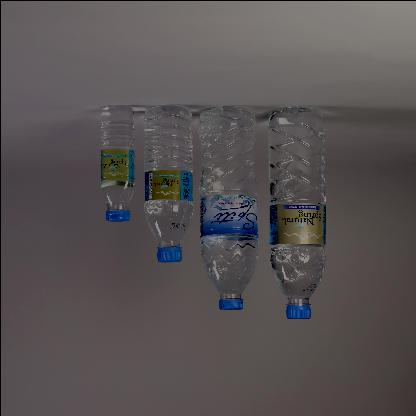Plastic Bottle: (197, 105, 257, 309), (268, 106, 325, 318), (143, 104, 192, 262), (100, 104, 133, 221)
